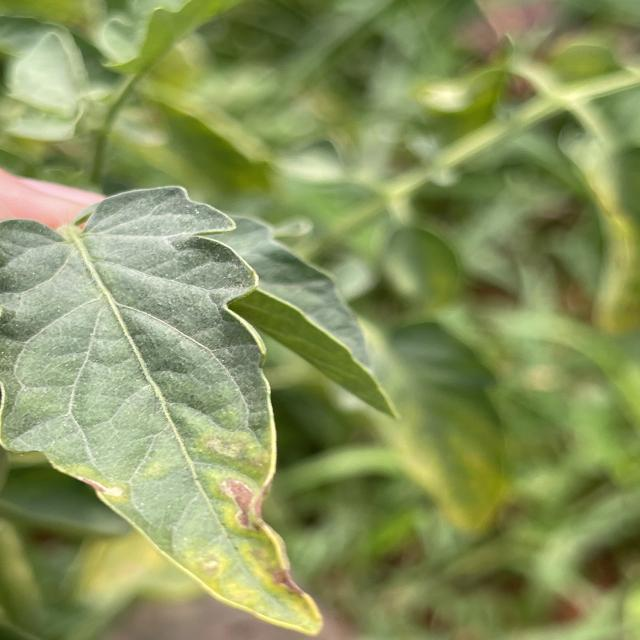tomato_early blight: (0, 186, 331, 636)
